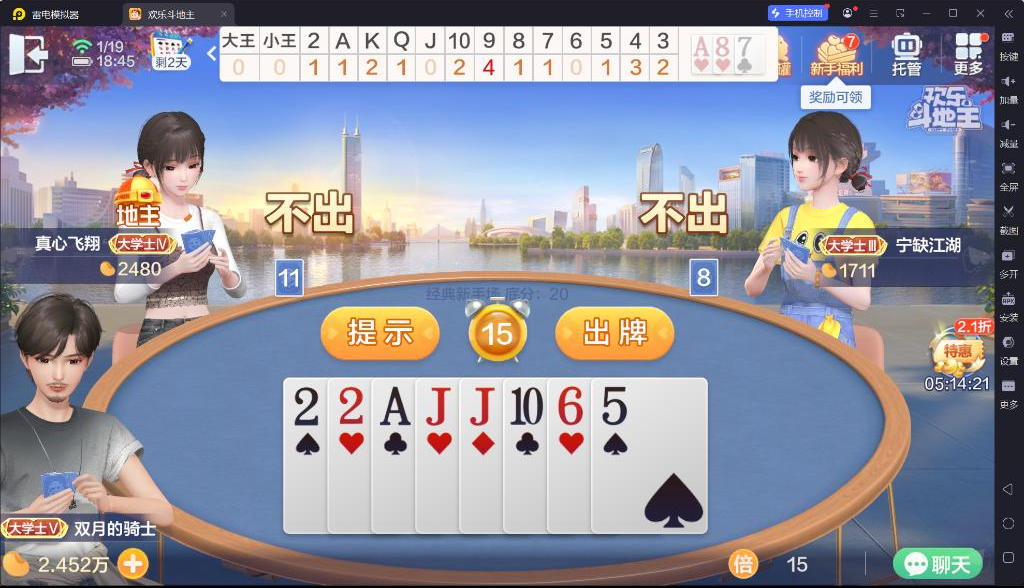A: (377, 384, 412, 427), (693, 35, 711, 58)
J: (422, 383, 454, 427), (466, 382, 496, 428)
eight: (714, 36, 731, 58)
five: (598, 383, 629, 427)
seven: (736, 36, 755, 58)
six: (556, 384, 586, 428)
ten: (508, 382, 545, 428)
two: (292, 384, 323, 428), (335, 384, 366, 427)
